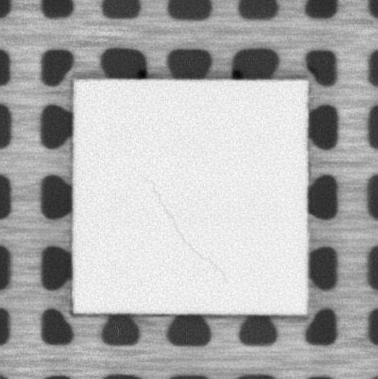DIE_CRACK: (142, 174, 228, 283)
